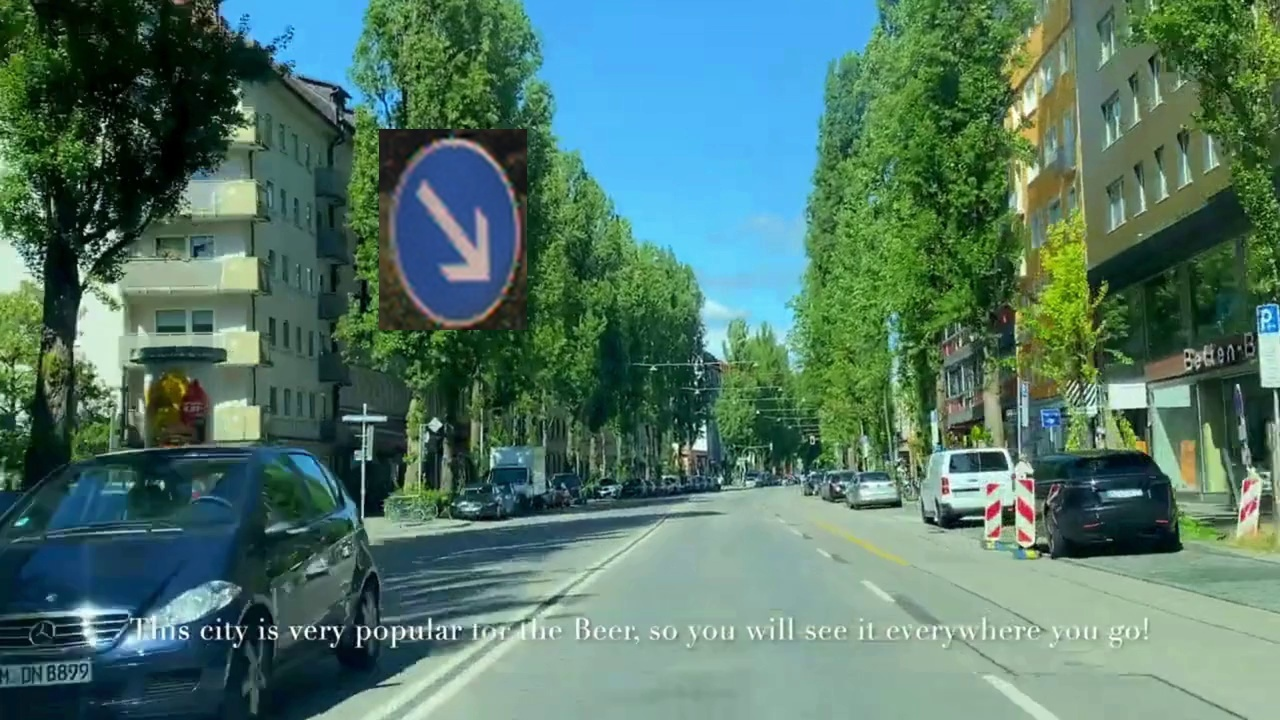Keep right: (379, 129, 527, 330)
